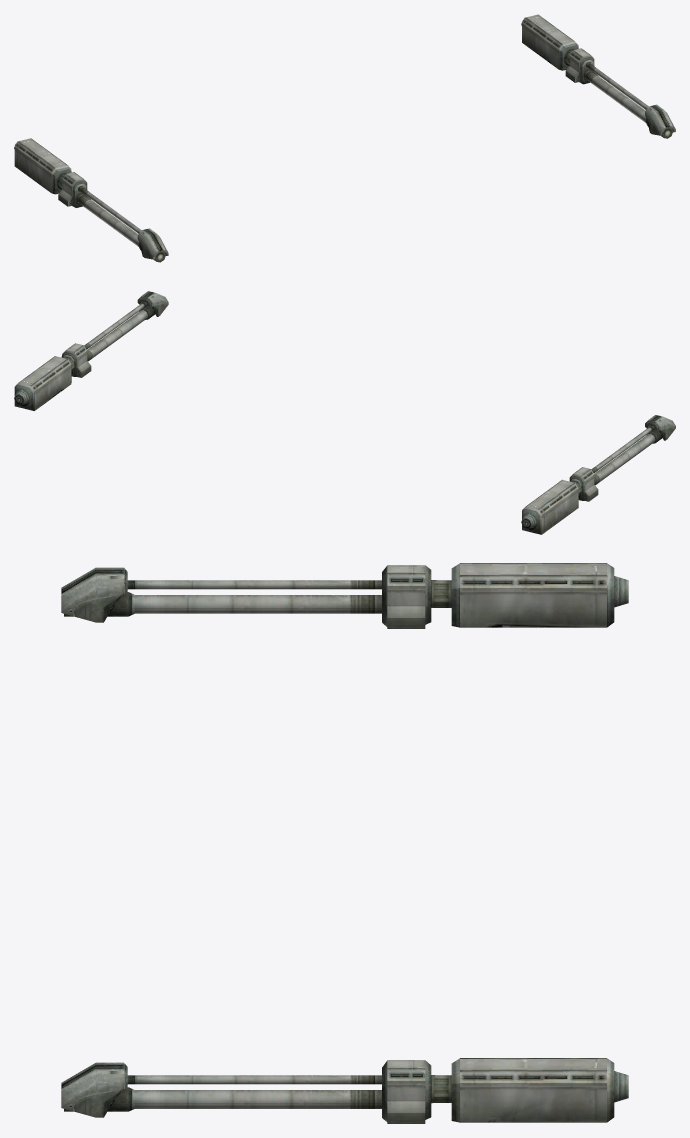
The model's file is z95_weapon_s06_l0.fbx.
3 views of the same model, one above another, from view 1: azimuth 30°, elevation 25°; view 2: azimuth 150°, elevation 25°; view 3: azimuth 270°, elevation 25° (orthographic). The views are drawn at different scales.
Visible parts, largest first — view 1: mesh_node; view 2: mesh_node; view 3: mesh_node.
Boxes of the visible parts, left/top/right/bottom form: mesh_node: left=14, top=14, right=675, bottom=262; mesh_node: left=14, top=291, right=675, bottom=534; mesh_node: left=61, top=563, right=628, bottom=1123.
Size of the model in its own units: 14.61 by 0.7243 by 6.76.
Materials: 1 (1 with a texture image).
